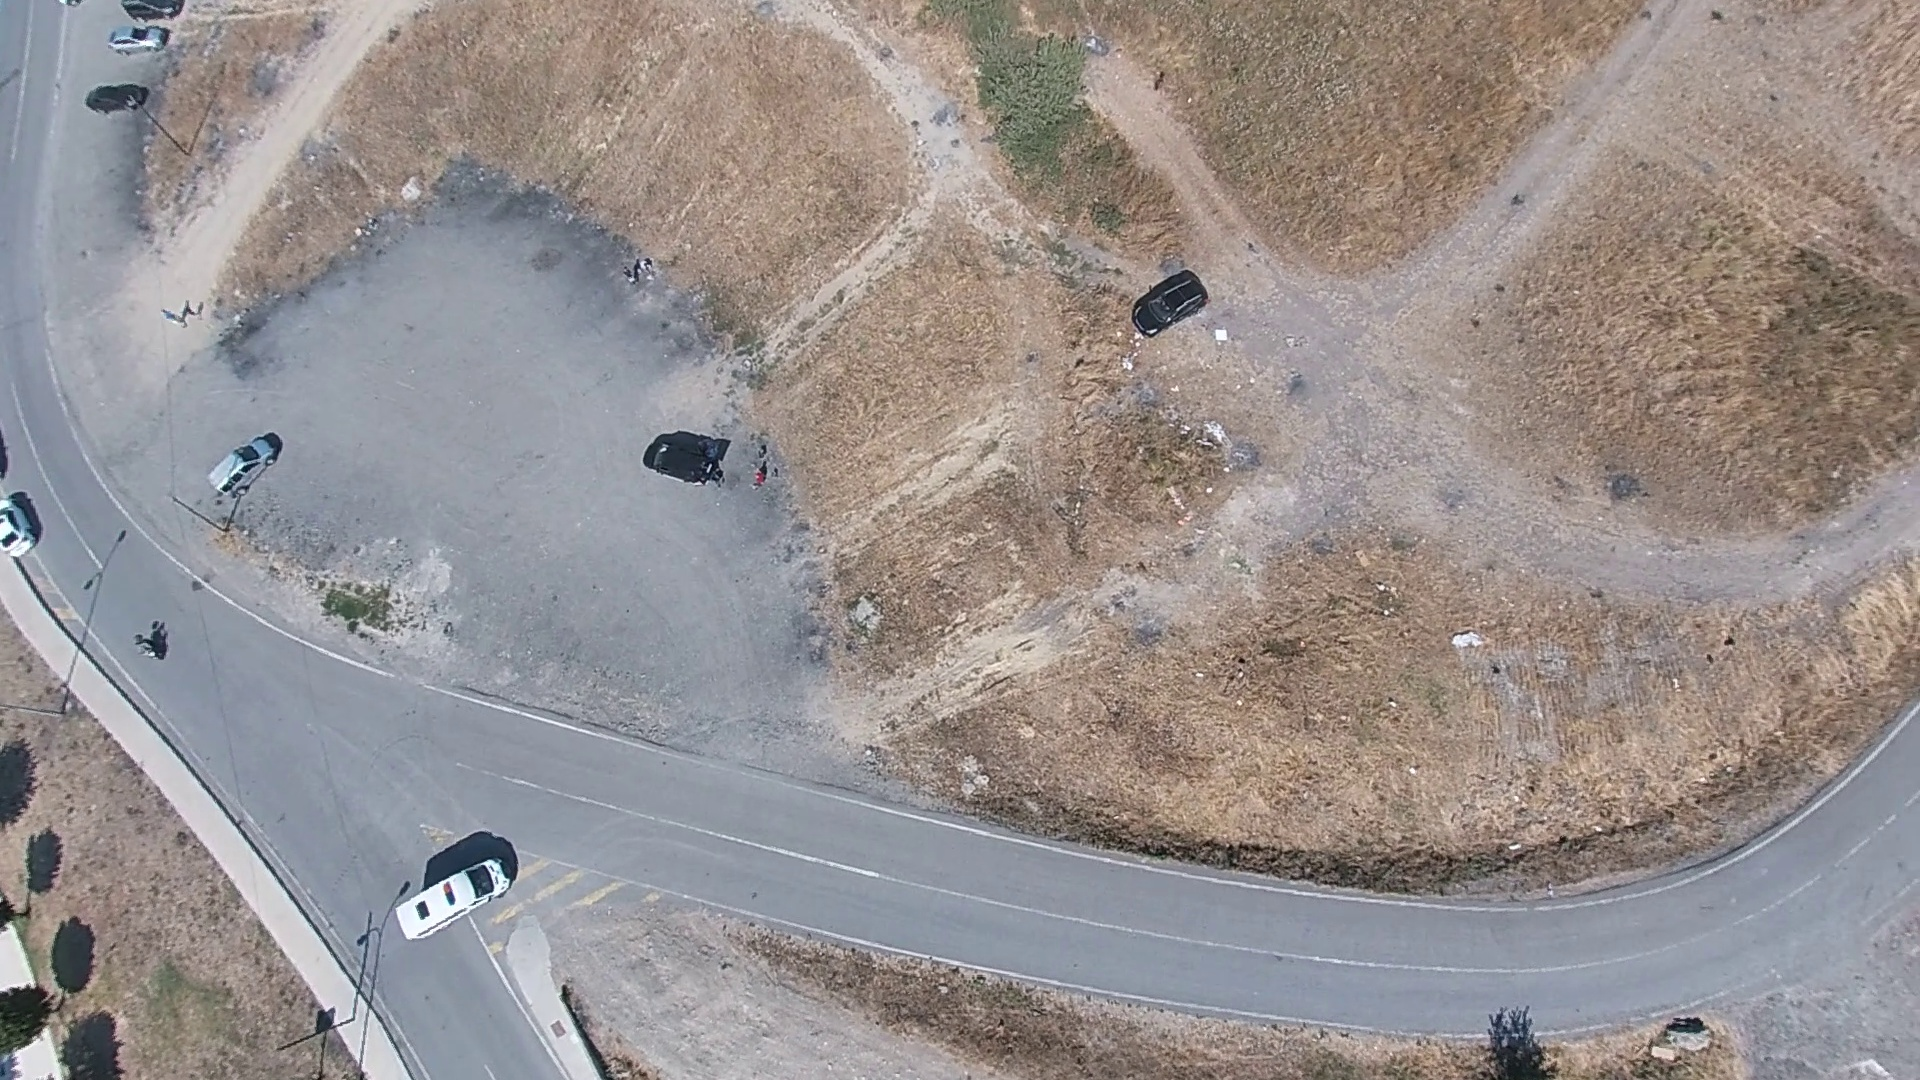arac: (386, 856, 502, 939), (1131, 265, 1208, 336), (204, 433, 280, 502), (645, 429, 723, 481), (3, 488, 43, 552), (101, 22, 180, 55), (82, 81, 149, 116)
insan: (130, 624, 164, 658), (161, 306, 188, 327), (621, 265, 637, 285), (753, 471, 767, 487)
